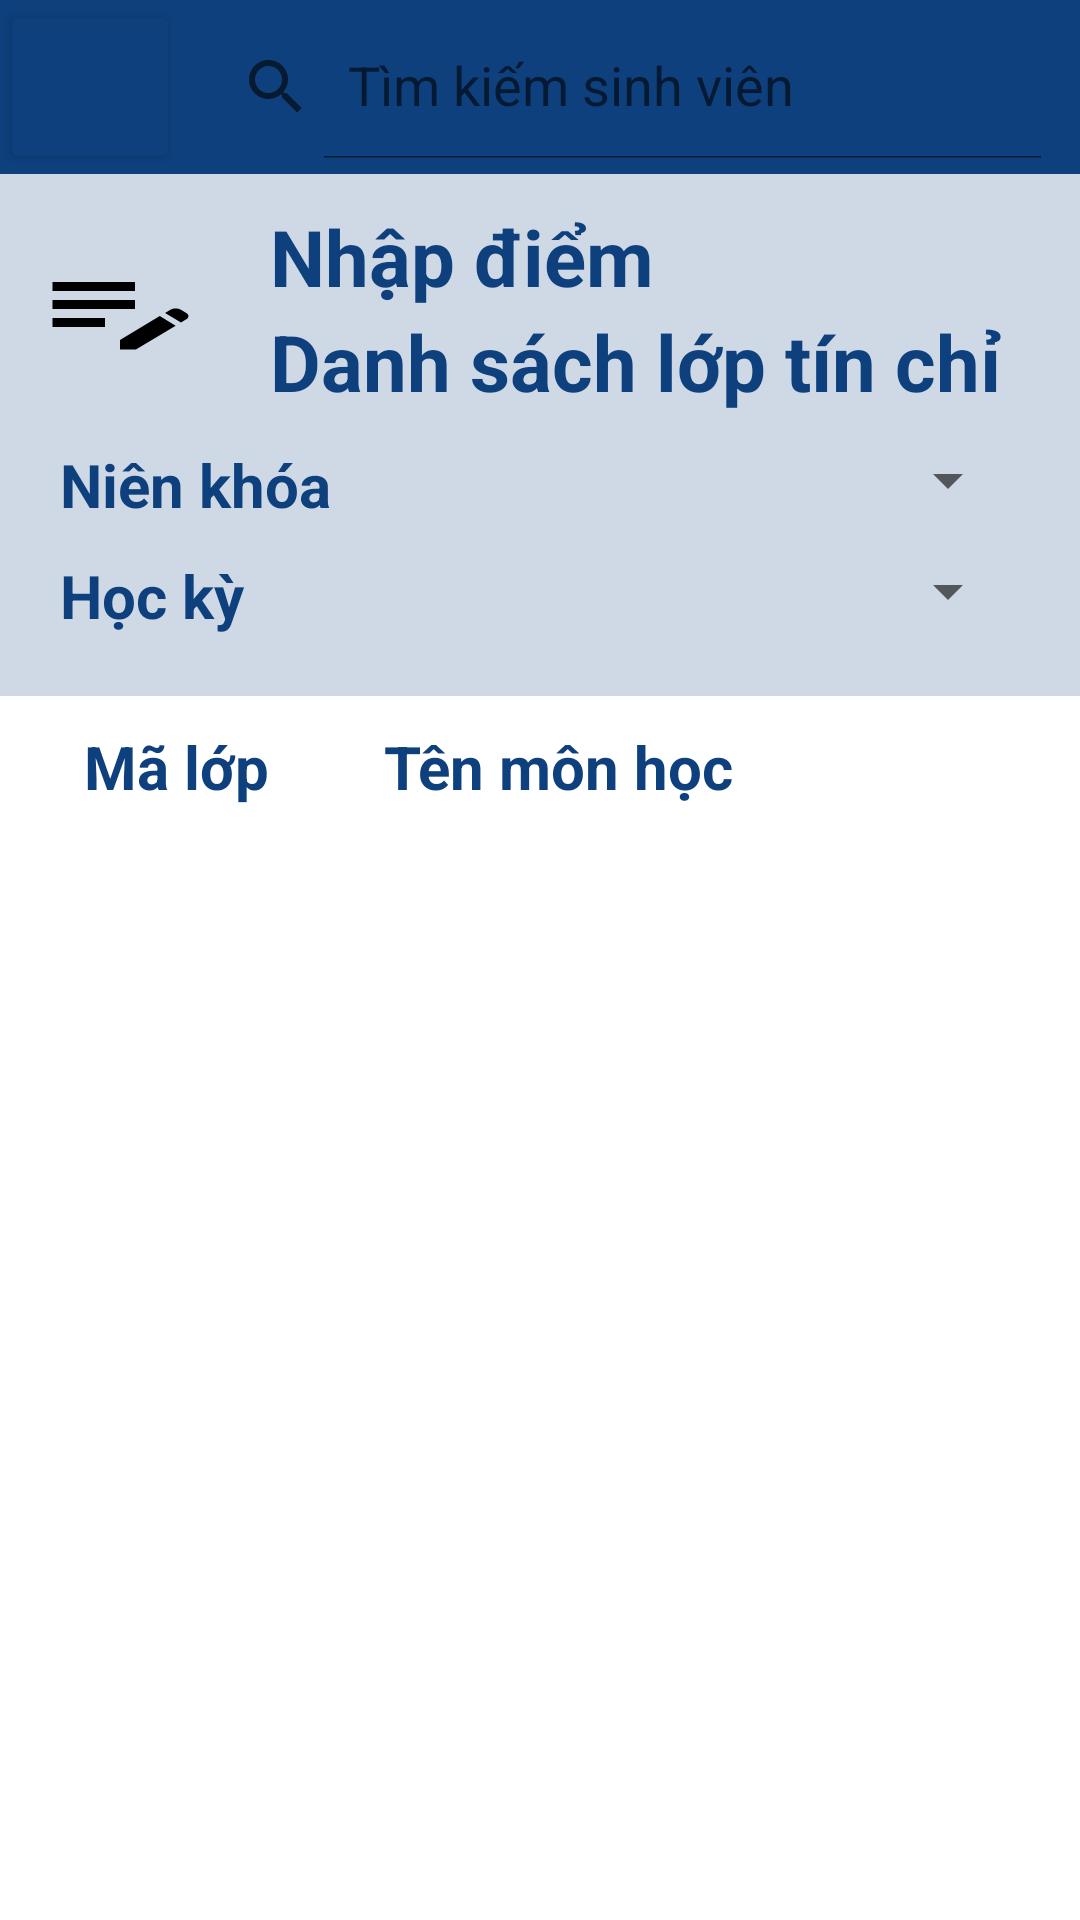

Icon bounding boxes for this 1080*1920 phone screenshot, format box=[x1, y1, x2, y2]:
edit note: box=[52, 282, 189, 350]
